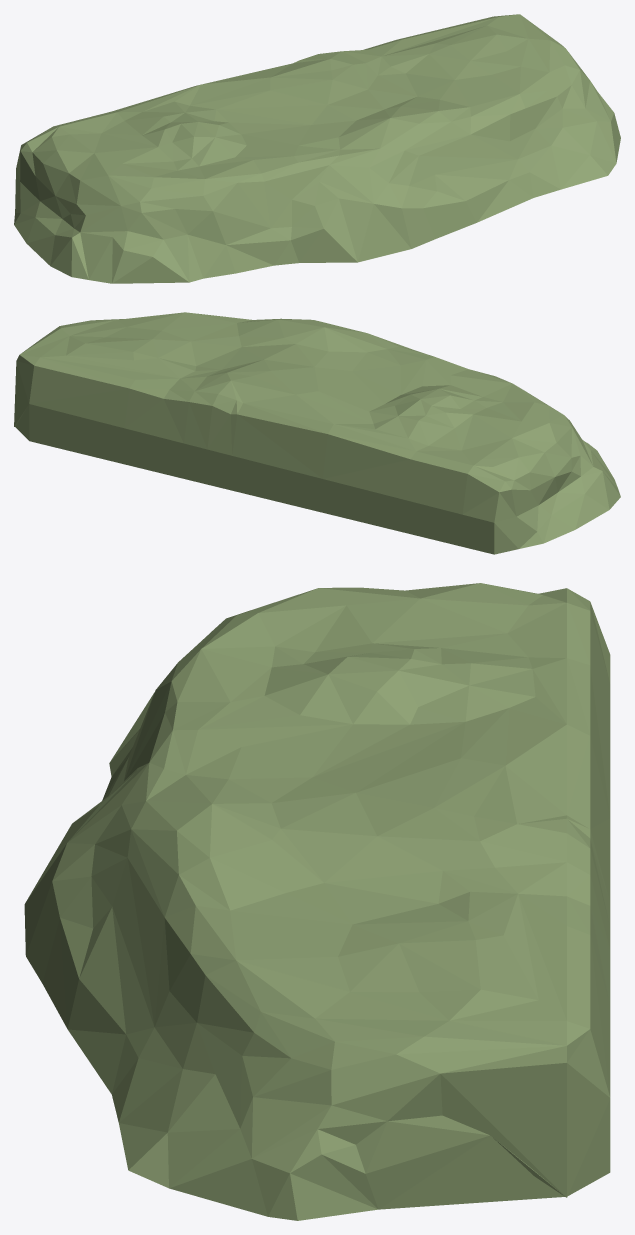
The model's file is Soil-bench2.fbx.
The picture shows the model from 3 angles, top to bottom: view 1: azimuth 30°, elevation 25°; view 2: azimuth 150°, elevation 25°; view 3: azimuth 270°, elevation 25°; orthographic projection. The views are drawn at different scales.
Parts seen in each view (by area): view 1: Soil-bench2; view 2: Soil-bench2; view 3: Soil-bench2.
Boxes of the visible parts, bbox=[...] form: Soil-bench2: bbox=[14, 14, 620, 283]; Soil-bench2: bbox=[14, 312, 620, 554]; Soil-bench2: bbox=[24, 583, 610, 1220].
Size of the model in its own units: 420 by 64.09 by 192.
